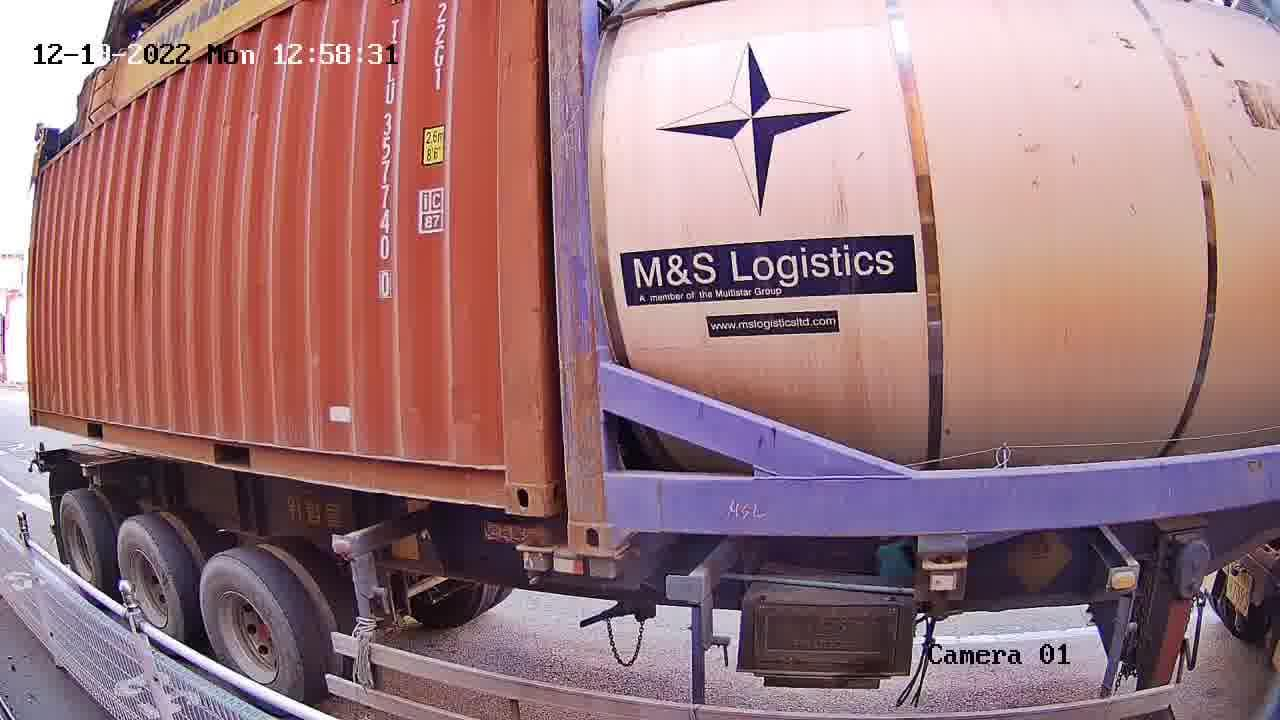Cone: (519, 531, 552, 584), (587, 556, 623, 582)
Hole_L: (568, 487, 642, 556)
Hole_R: (477, 453, 549, 517)
Tire: (201, 563, 293, 692), (114, 525, 175, 628), (61, 496, 105, 582)
